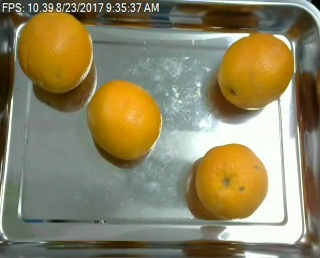Orange: (17, 8, 92, 92), (217, 31, 295, 111), (88, 79, 163, 159), (193, 142, 268, 219)
